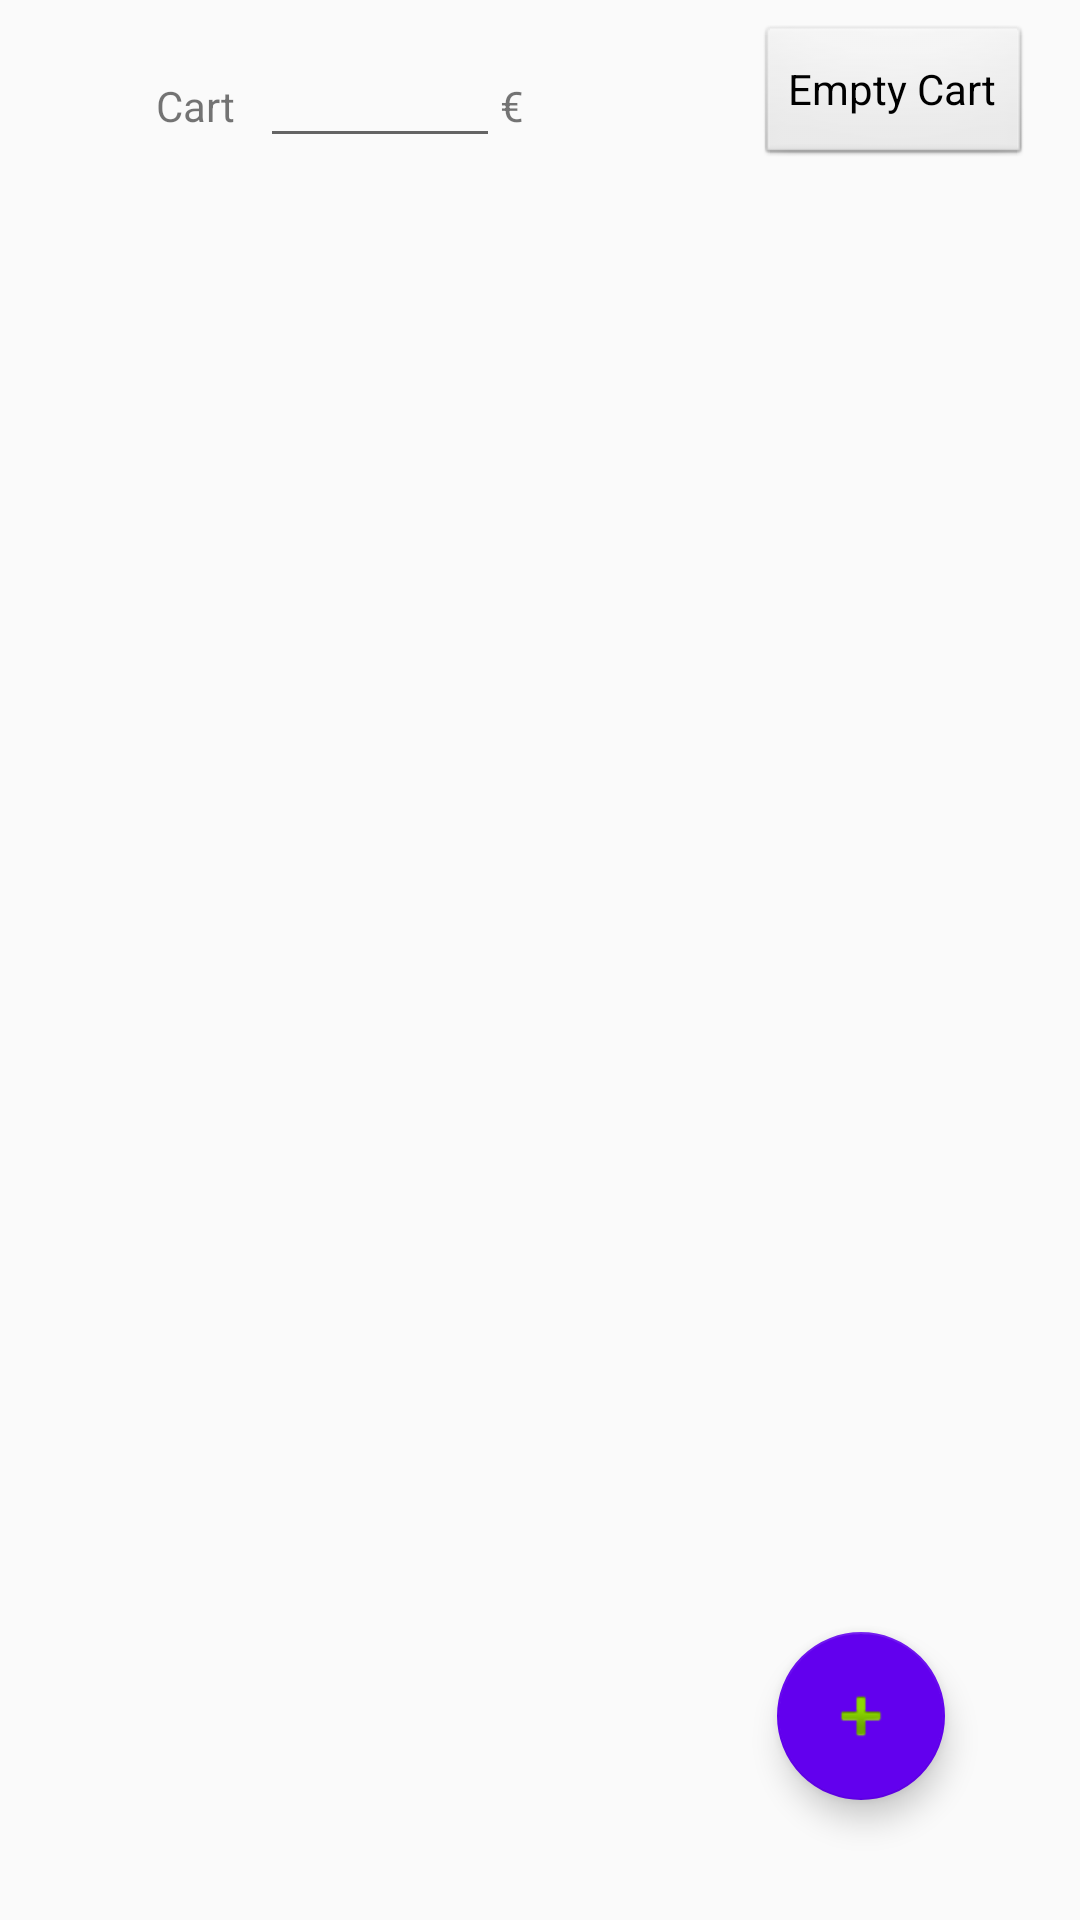

Icon click points for this 1080w x 1920h phone screenshot, format (x,y):
add: (861,1716)
